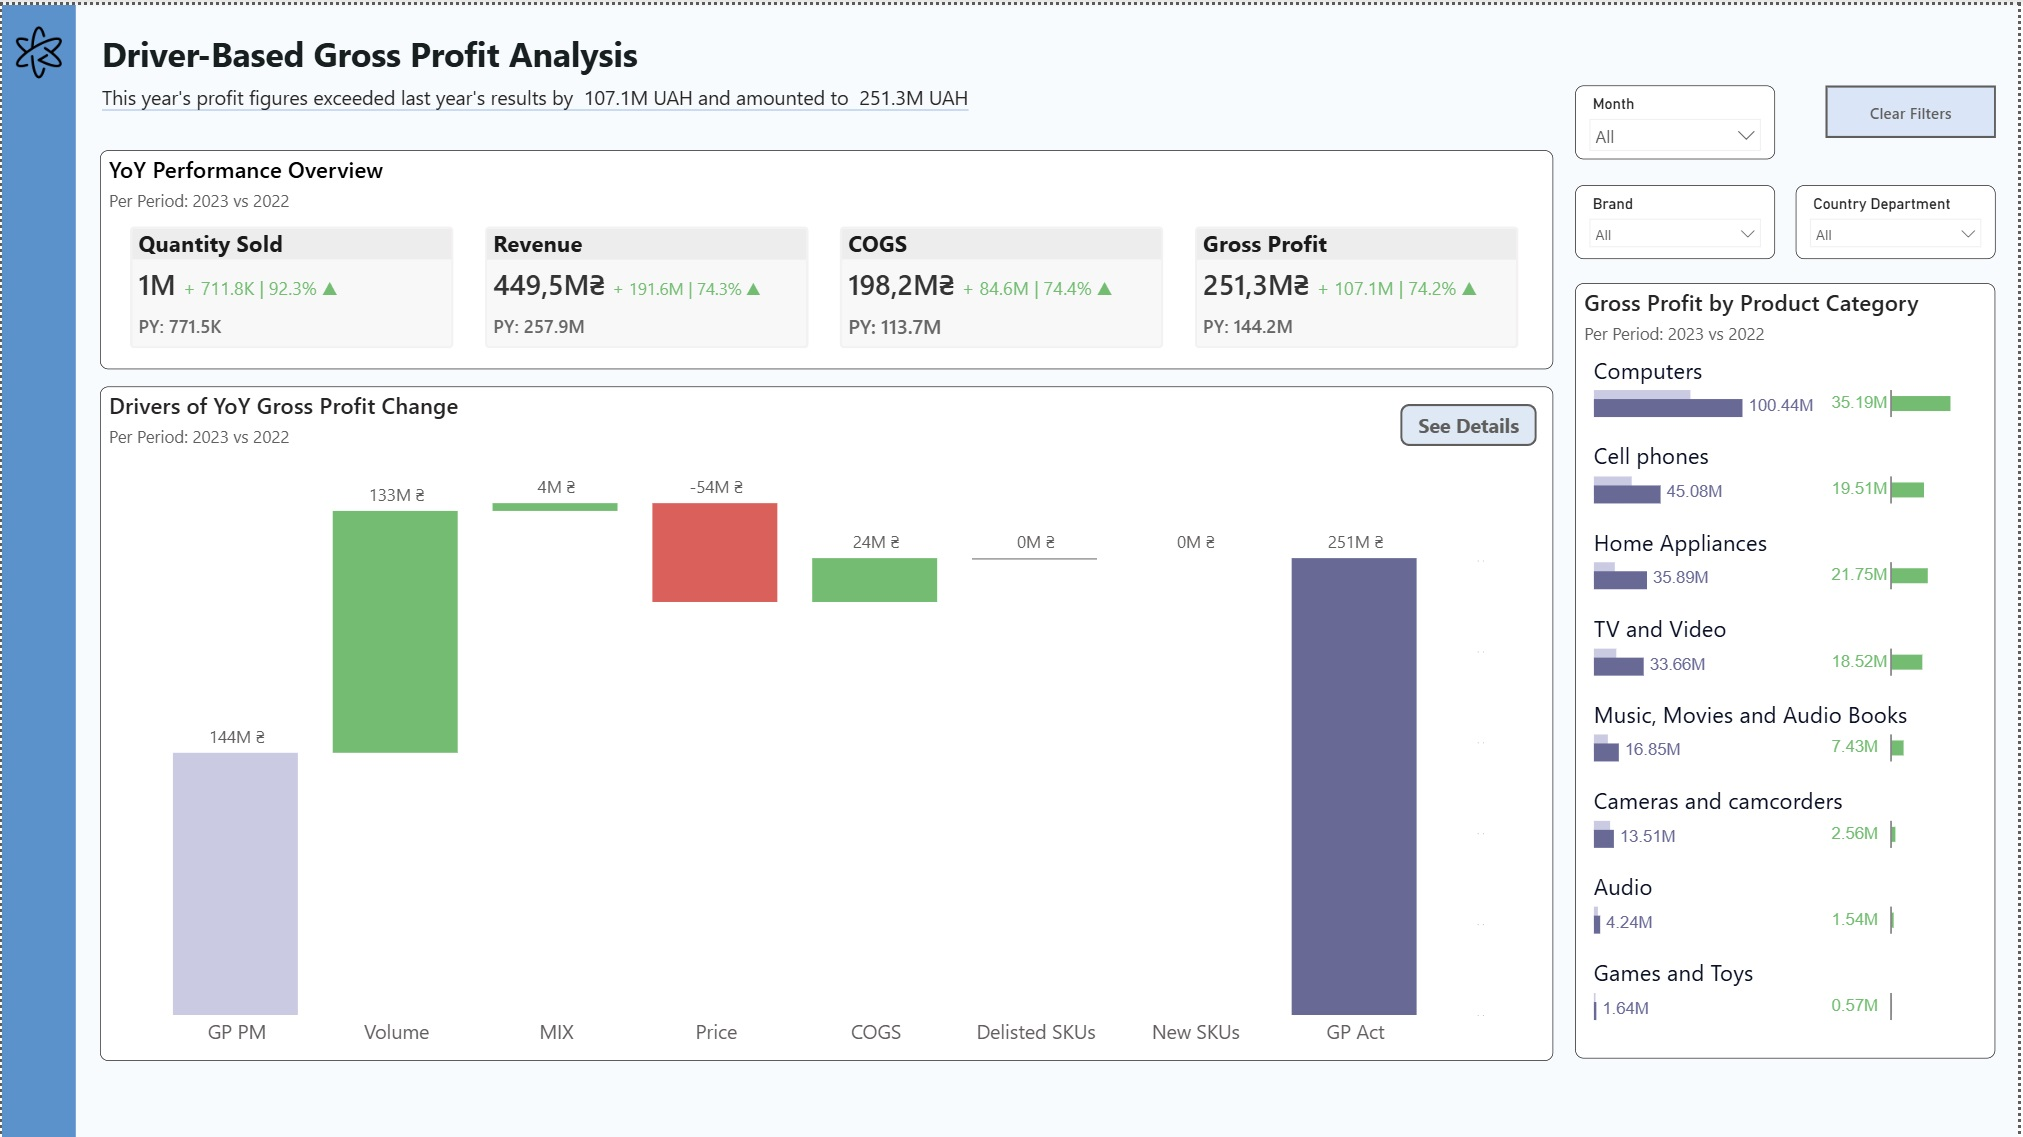

The dashboard page shown, as its layout file describes it:
{"tool":"powerbi","page":{"name":"GP Drivers","canvas":[1920,1080],"ordinal":0},"visuals":[{"type":"shape","box":[1498.6,8.8,400.5,997.8],"z":0,"group":"g2"},{"type":"textbox","box":[90,20,636,70],"z":0,"group":"g1"},{"type":"actionButton","box":[1735,77.5,162.5,50],"z":1000,"group":"g2"},{"type":"slicer","fields":{"Values":["Calendar.Month"]},"box":[1497.5,77.5,190,70],"z":2000,"group":"g2"},{"type":"lineStackedColumnComboChart","title":"Drivers of  YoY Gross Profit  Change","fields":{"Category":["ChartColumns.ColumnName"],"Y":["DAX._2 Amount","select4","select3","select5","select","select6","select1","select2","select7"],"Y2":["select8"]},"box":[94,364,1384,642],"z":3000},{"type":"advancedSlicerVisual","title":"Gross Profit by Product Category","fields":{"Values":["DimProduct.Category"]},"box":[1498,266,400,738],"z":4000,"group":"g2"},{"type":"cardVisual","title":"YoY Performance Overview","fields":{"Data":["DAX.Quantity Sold","DAX.Revenue","DAX.COGS","DAX.gross profit"]},"box":[93.8,137.5,1383.8,208.8],"z":5000},{"type":"slicer","title":"Gross Profit by Country","fields":{"Values":["DimStore.CountryName"]},"box":[1707.5,172.5,190,70],"z":6000,"group":"g2"},{"type":"actionButton","box":[1332,380,130,40],"z":7000},{"type":"shape","box":[0,0,70,1080],"z":8000},{"type":"image","box":[10,20,50,50],"z":9000},{"type":"slicer","title":"Gross Profit by Country","fields":{"Values":["DimProduct.Brand"]},"box":[1497.5,172.5,190,70],"z":10000,"group":"g2"},{"type":"image","title":"Close","box":[1816.5,8.6,80.5,60.4],"z":10500,"group":"g2"},{"type":"group","id":"g1","title":"Titles","box":[90,20,636,70],"z":11000},{"type":"textbox","box":[90,70,918,68],"z":12000},{"type":"group","id":"g2","title":"Flter Pane","box":[1497.5,8.6,401.6,998.1],"z":14001}]}

Visuals, with their boxes in screenshot pixels (x1, y1, x2, y2), scaled from the page's 1920x1080 canvas onto the 2023x1137 screenshot:
shape: l=1579, t=9, r=2001, b=1060
textbox: l=95, t=21, r=765, b=95
actionButton: l=1828, t=82, r=1999, b=134
slicer - Calendar.Month: l=1578, t=82, r=1778, b=155
"Drivers of  YoY Gross Profit  Change" lineStackedColumnComboChart: l=99, t=383, r=1557, b=1059
"Gross Profit by Product Category" advancedSlicerVisual: l=1578, t=280, r=2000, b=1057
"YoY Performance Overview" cardVisual: l=99, t=145, r=1557, b=365
"Gross Profit by Country" slicer: l=1799, t=182, r=1999, b=255
actionButton: l=1403, t=400, r=1540, b=442
shape: l=0, t=0, r=74, b=1136
image: l=11, t=21, r=63, b=74
"Gross Profit by Country" slicer: l=1578, t=182, r=1778, b=255
"Close" image: l=1914, t=9, r=1999, b=73
"Titles" group: l=95, t=21, r=765, b=95
textbox: l=95, t=74, r=1062, b=145
"Flter Pane" group: l=1578, t=9, r=2001, b=1060
